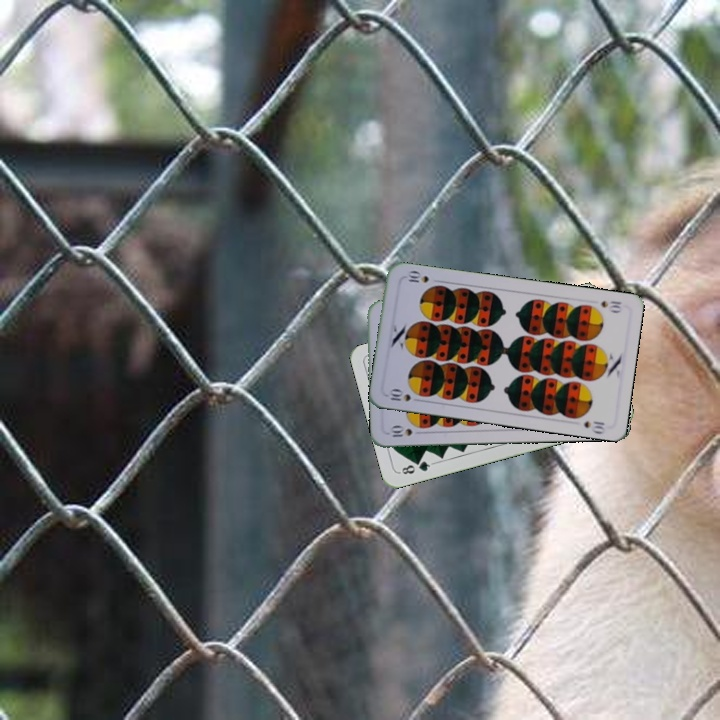G8: (396, 457, 436, 477)
S10: (386, 385, 424, 404), (597, 297, 624, 315), (385, 423, 414, 439)
